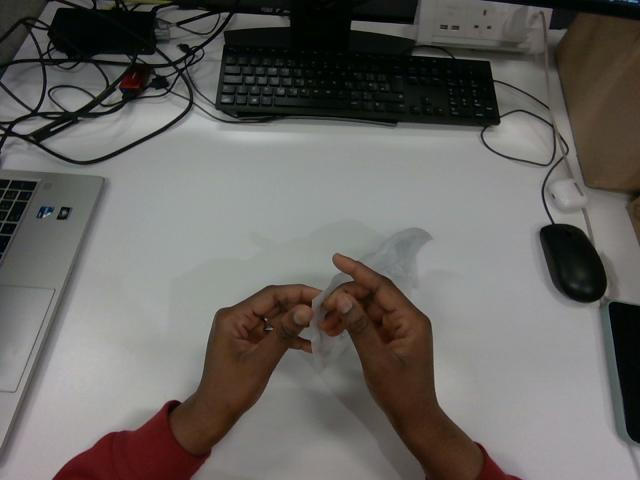gallipot: (310, 272, 351, 370)
